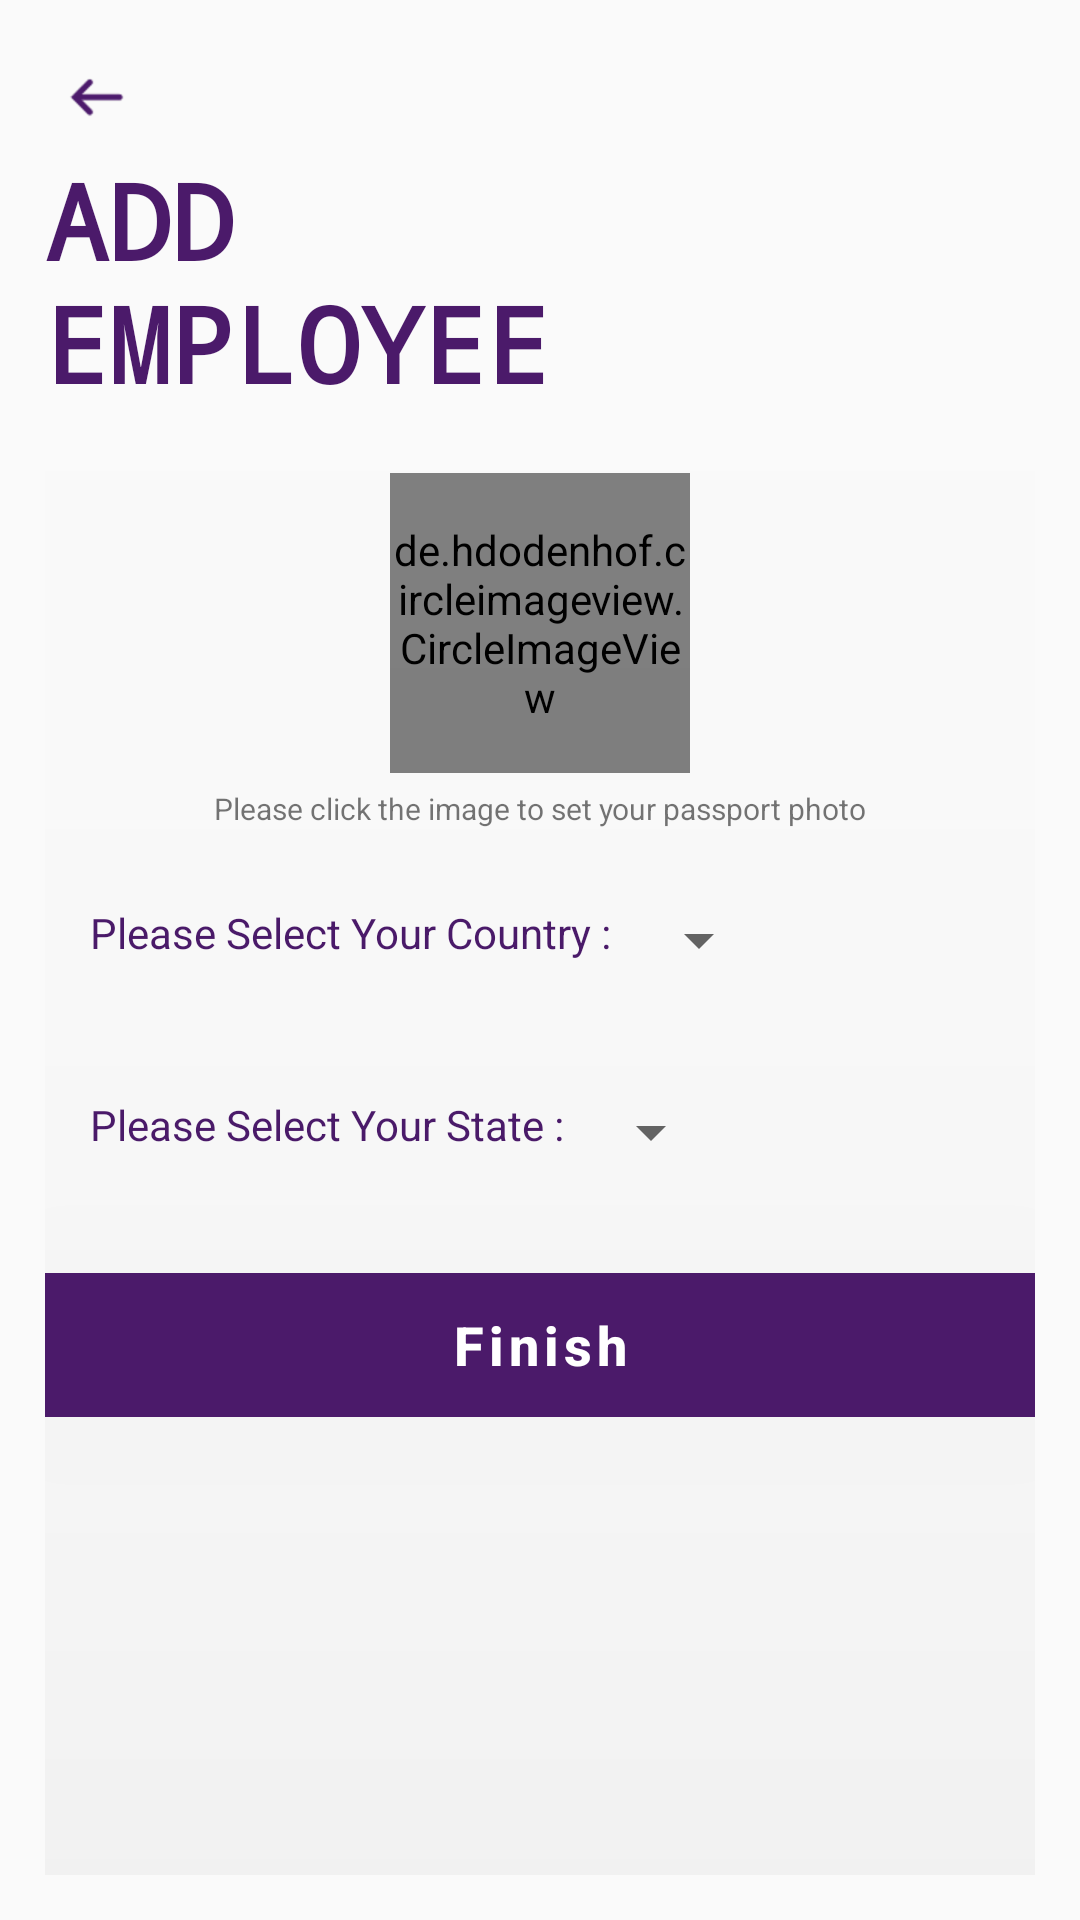

Where icons sit on this 1080w x 1920h app screen, as (x1, y1, x2, y2):
left: (70, 79, 123, 116)
